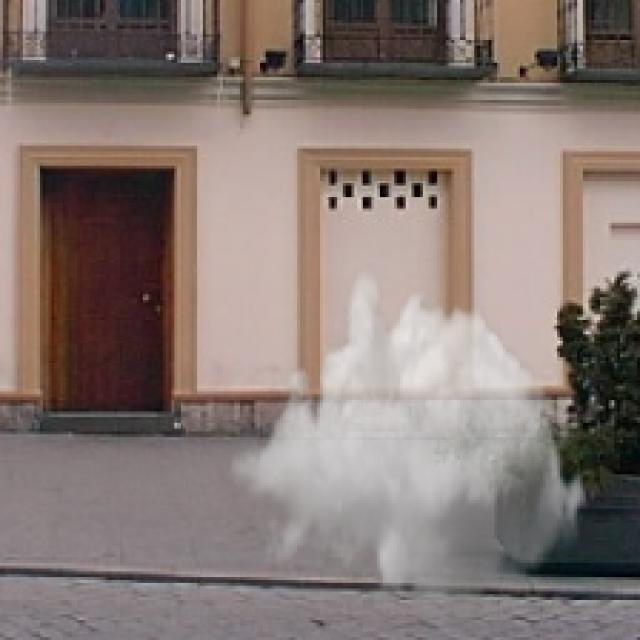smoke: (228, 263, 592, 634)
